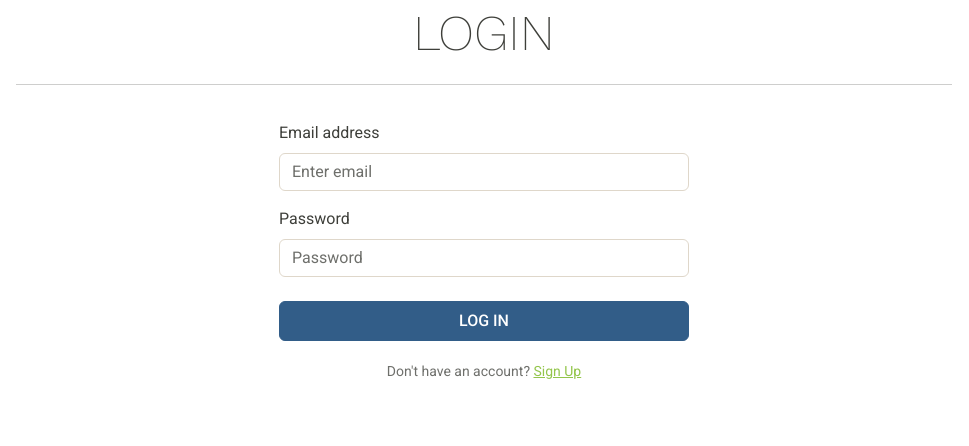
Test: LoginPage › should show validation messages when fields are empty
The image size is (969, 446).
Click the button with test id "login-btn" at (484,321), box x1=279 y1=301 x2=689 y2=341
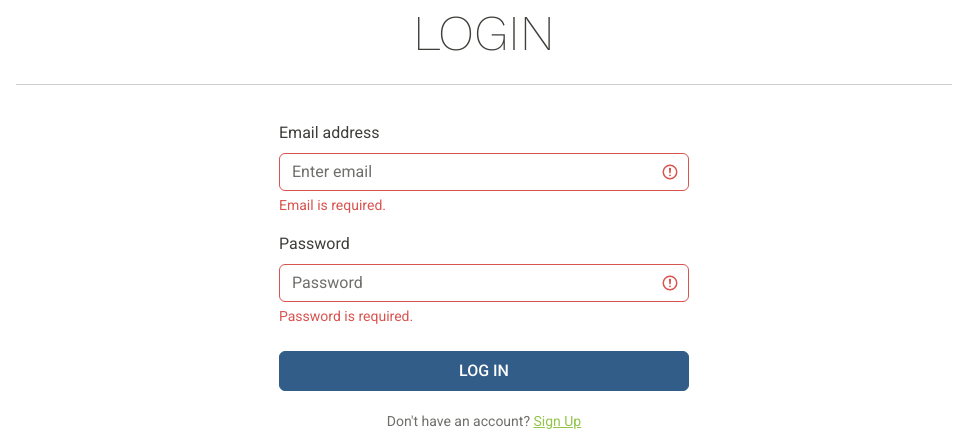
Expected: the text "Email is required." is shown, x1=279 y1=197 x2=386 y2=213
Expected: the text "Password is required." is shown, x1=279 y1=308 x2=413 y2=324
